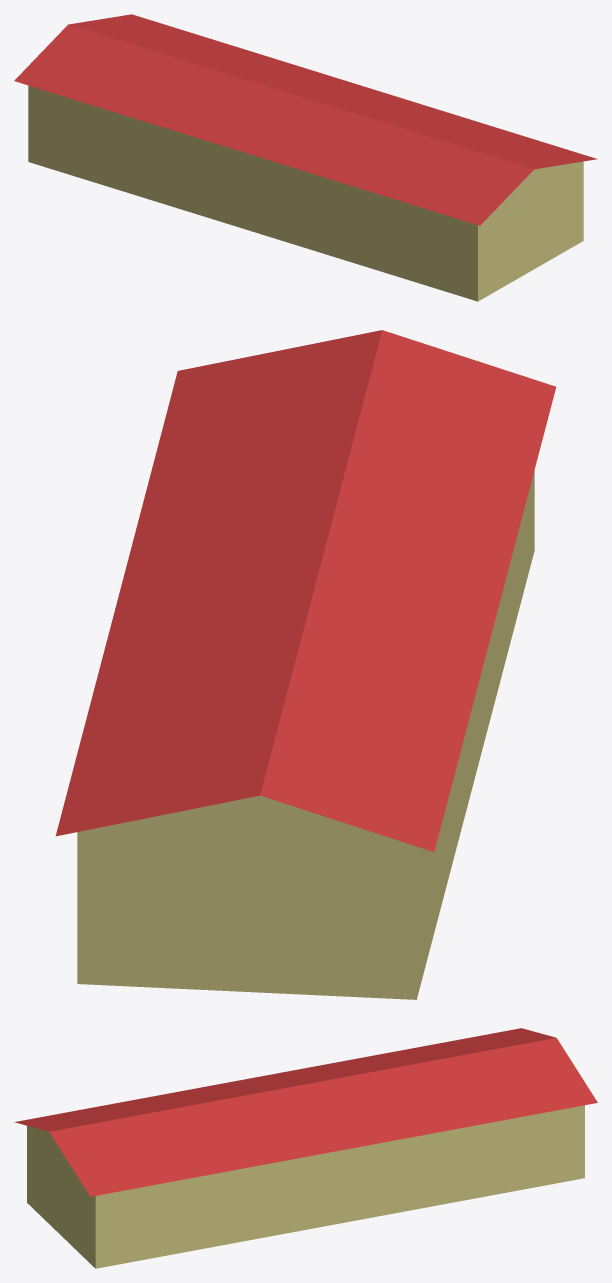
3 views of the same model, one above another, from view 1: azimuth 30°, elevation 25°; view 2: azimuth 150°, elevation 25°; view 3: azimuth 270°, elevation 25° (orthographic). The views are drawn at different scales.
Size of the model in its own units: 40.03 by 58.89 by 11.43.
